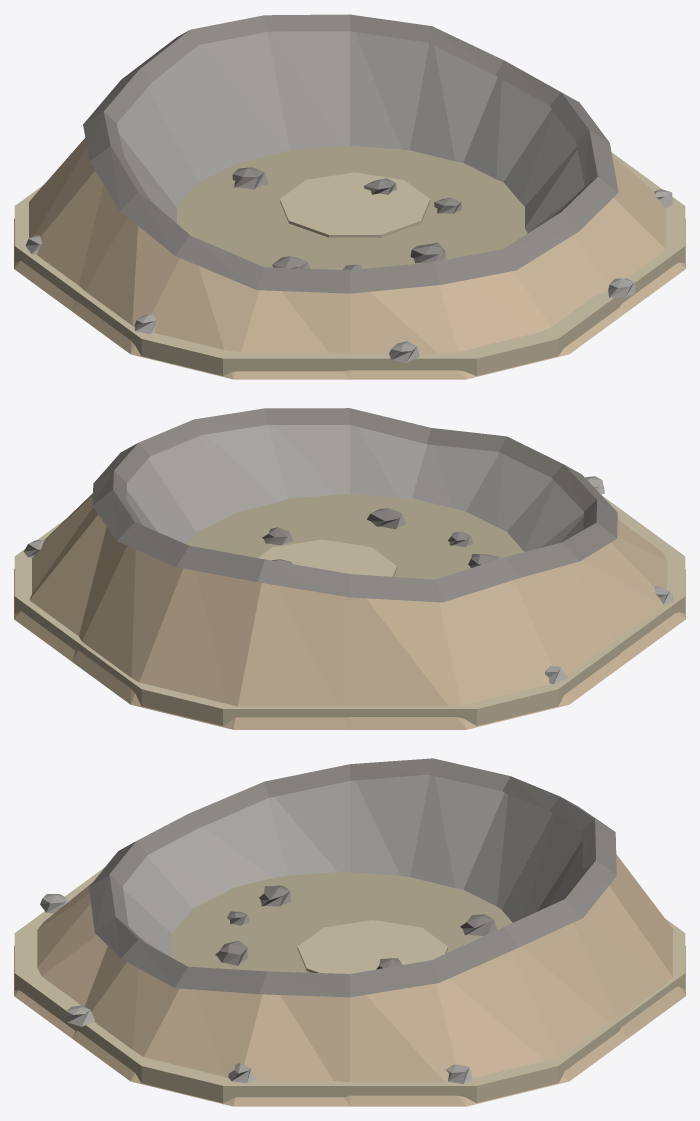
File: the-barringer-crater.glb
3 renders of one model, top to bottom at view 1: azimuth 30°, elevation 25°; view 2: azimuth 150°, elevation 25°; view 3: azimuth 270°, elevation 25°, orthographic.
Parts seen in each view (by area): view 1: LOD0; view 2: LOD0; view 3: LOD0.
Part boxes in pixels (x1,y1,x2,y2): LOD0: [14, 14, 685, 379]; LOD0: [14, 408, 685, 729]; LOD0: [14, 758, 685, 1106].
Size of what is drawn, in the model's own units: 1.68 by 0.3867 by 1.76.
